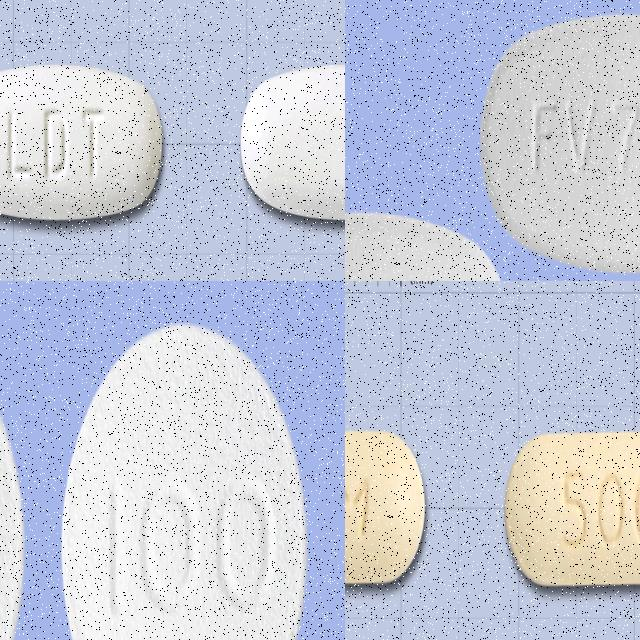Famvir -750mg: (480, 10, 640, 273)
Levona -500mg: (61, 320, 307, 640)
Levoxacin: (504, 433, 640, 588), (345, 430, 425, 584)
Seoul Cefixime Cap: (0, 63, 164, 222), (240, 62, 345, 221)
